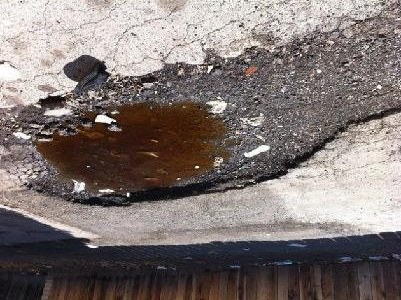pothole: (13, 17, 352, 210)
